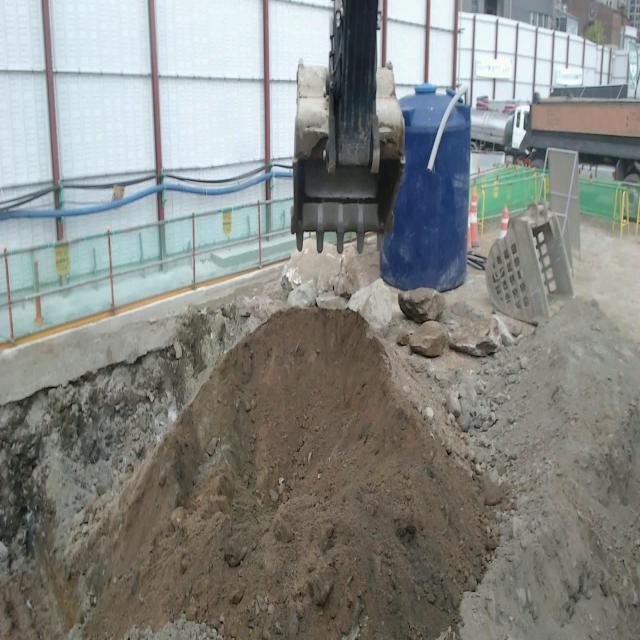cement: (0, 265, 281, 405)
red-sand: (0, 302, 640, 639)
rocks: (406, 355, 509, 473)
stone: (281, 238, 344, 293), (347, 279, 392, 329), (448, 316, 500, 356), (333, 247, 371, 297), (398, 287, 446, 324), (409, 321, 447, 357), (287, 280, 317, 308), (316, 292, 348, 309)
